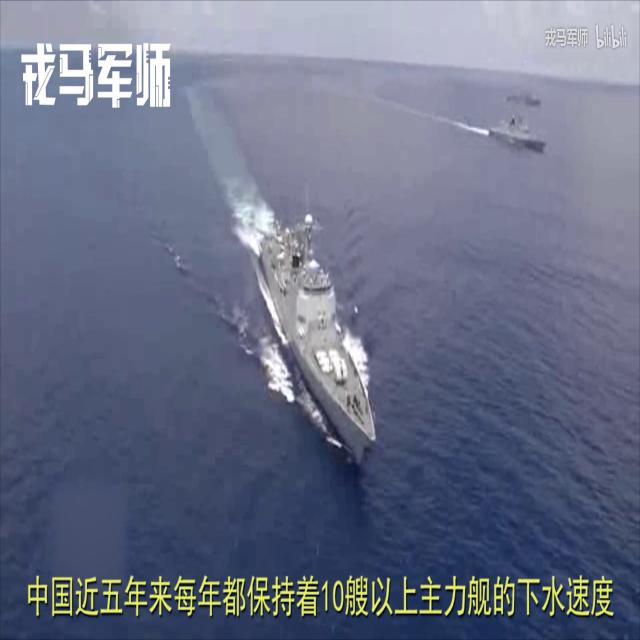navalvessels: (258, 212, 376, 465), (484, 106, 544, 151), (505, 84, 541, 108)
